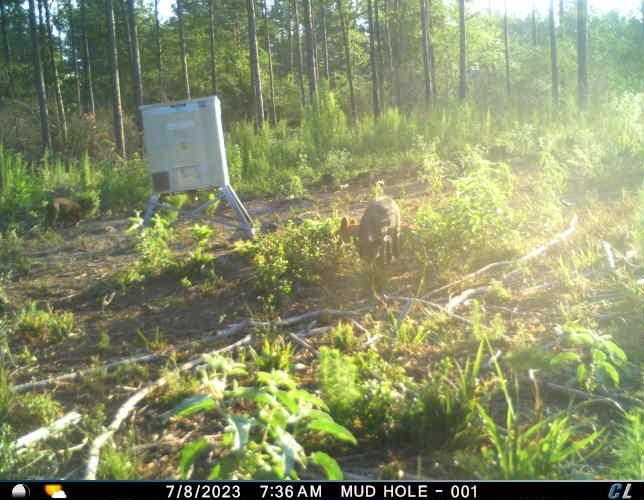Hog: (358, 194, 397, 265), (338, 216, 422, 239), (42, 196, 85, 229)
